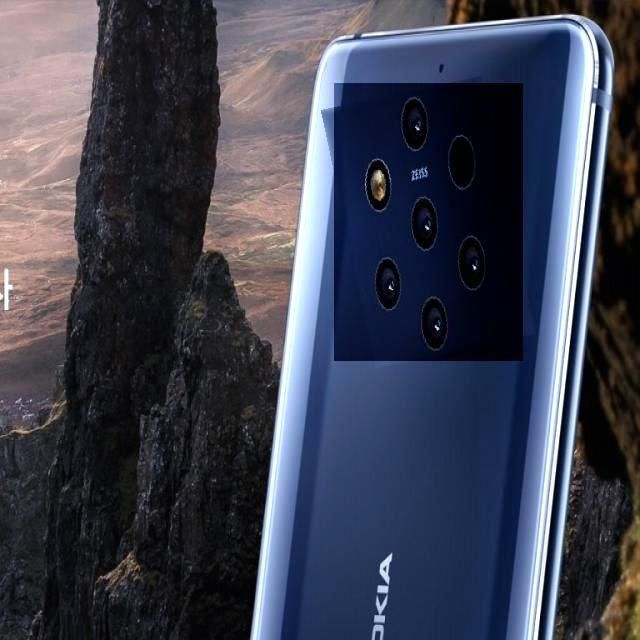lens_back: (446, 223, 486, 297), (392, 94, 433, 166), (443, 128, 482, 203), (399, 189, 442, 255), (366, 255, 408, 321), (415, 297, 460, 355)
phone: (244, 16, 615, 640)
